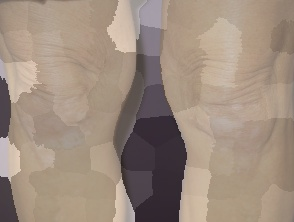vitiligo: (0, 0, 138, 209), (165, 0, 294, 220)
